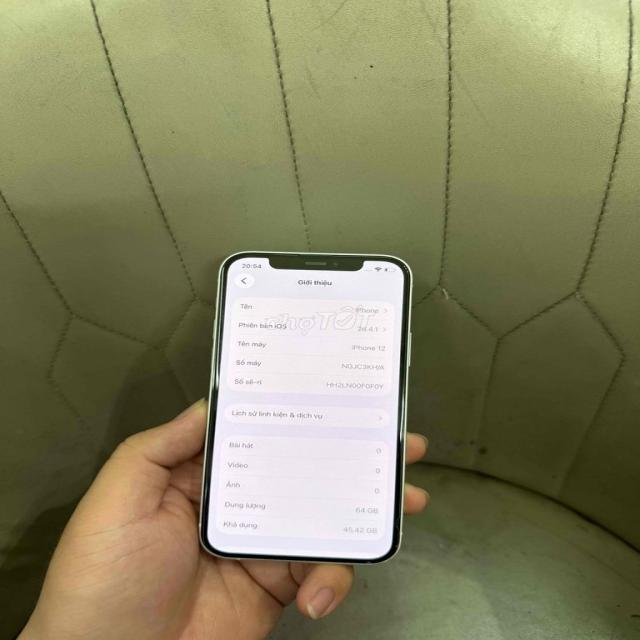gen_12_13: (180, 244, 436, 579)
